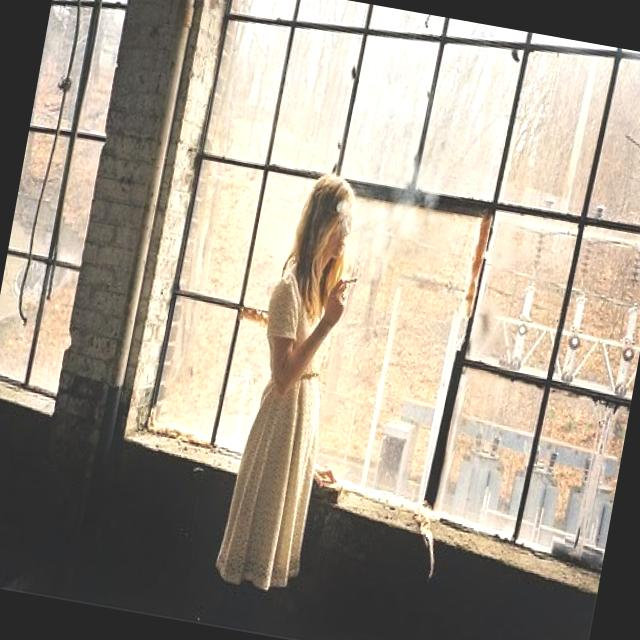cigarette: (338, 272, 356, 286)
